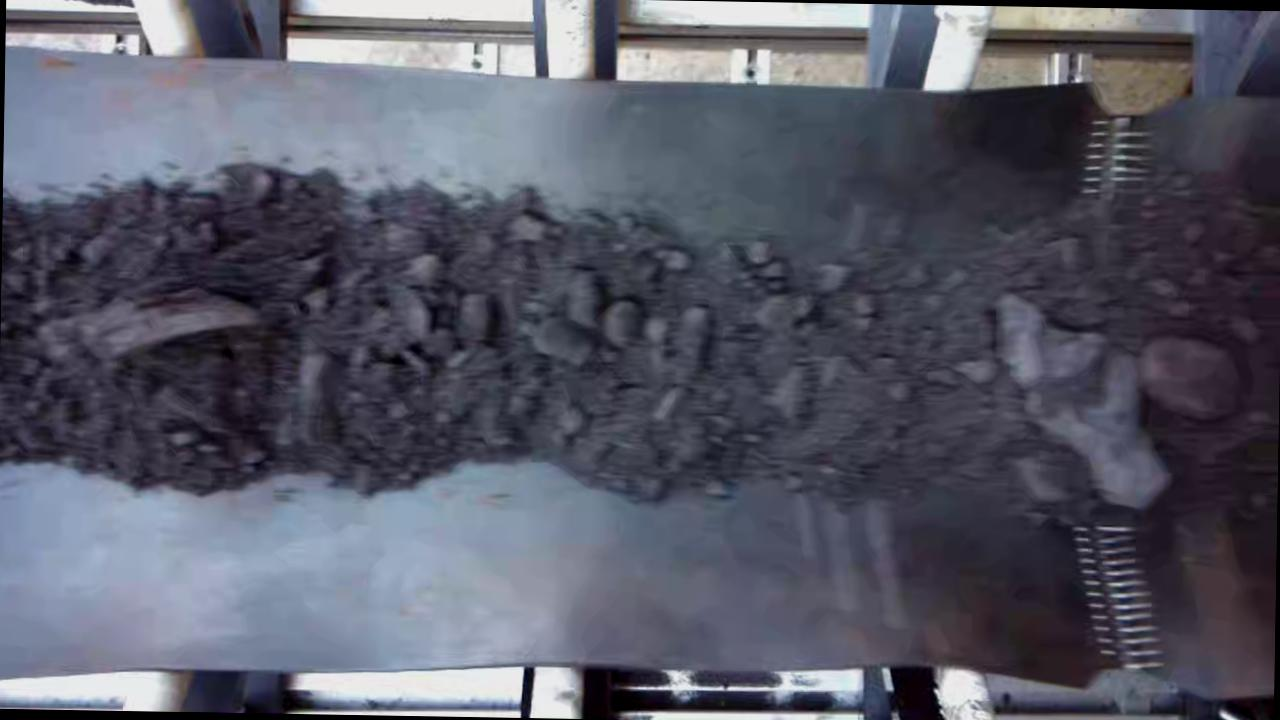conveyor: (0, 78, 1280, 693)
